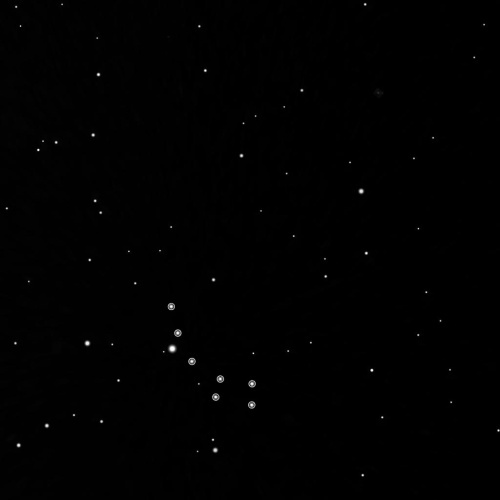ursa_minor: (162, 299, 261, 413)
